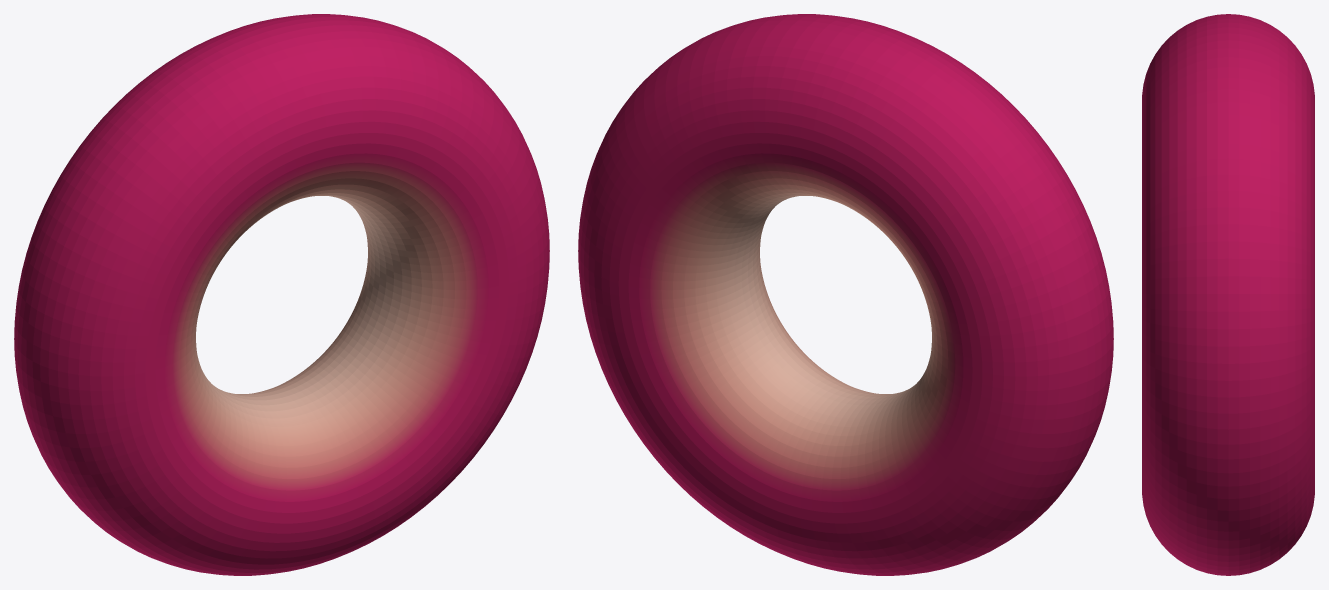
3 views of the same model, side by side, from view 1: azimuth 30°, elevation 25°; view 2: azimuth 150°, elevation 25°; view 3: azimuth 270°, elevation 25° (orthographic). The views are drawn at different scales.
Parts seen in each view (by area): view 1: world; view 2: world; view 3: world.
Boxes of the visible parts, x1,y1,x2,y2 form: world: (14, 14, 549, 575); world: (578, 14, 1113, 575); world: (1142, 14, 1314, 575).
Size of the model in its own units: 29.87 by 29.87 by 9.18.
